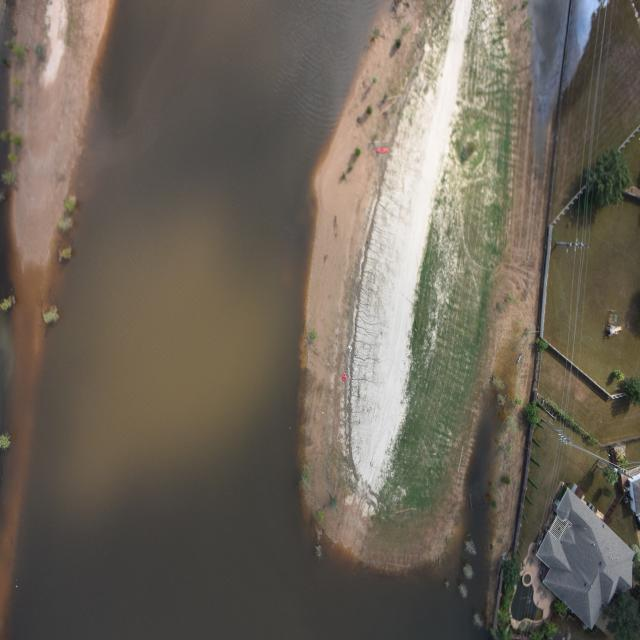fire: (5, 0, 500, 639), (529, 0, 570, 173), (566, 0, 599, 85)
